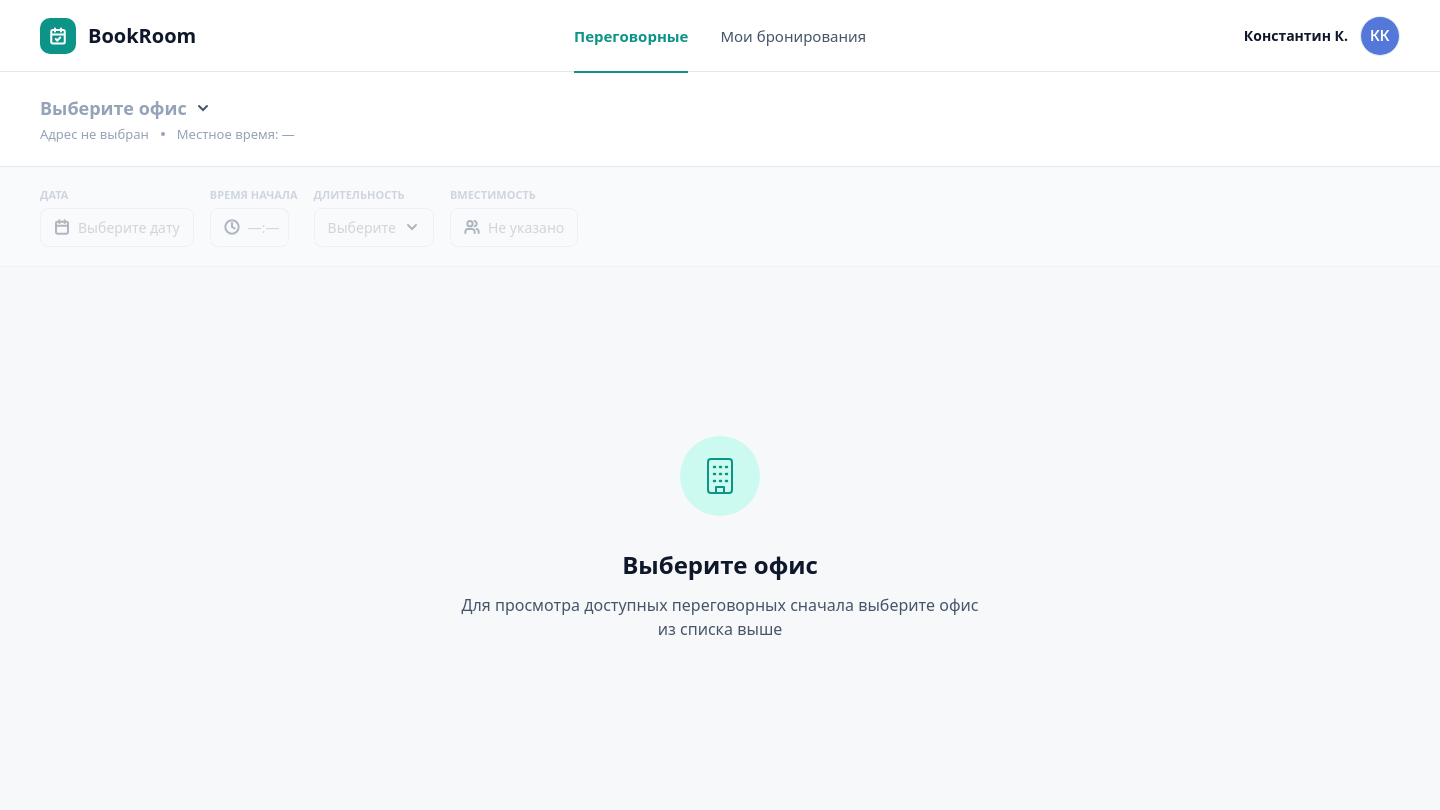
App layout › включает фильтры после выбора офиса
The width and height of the screenshot is (1440, 810).
Click the dropdown labelled "Выберите офис": (125, 108) [40,96,211,120]
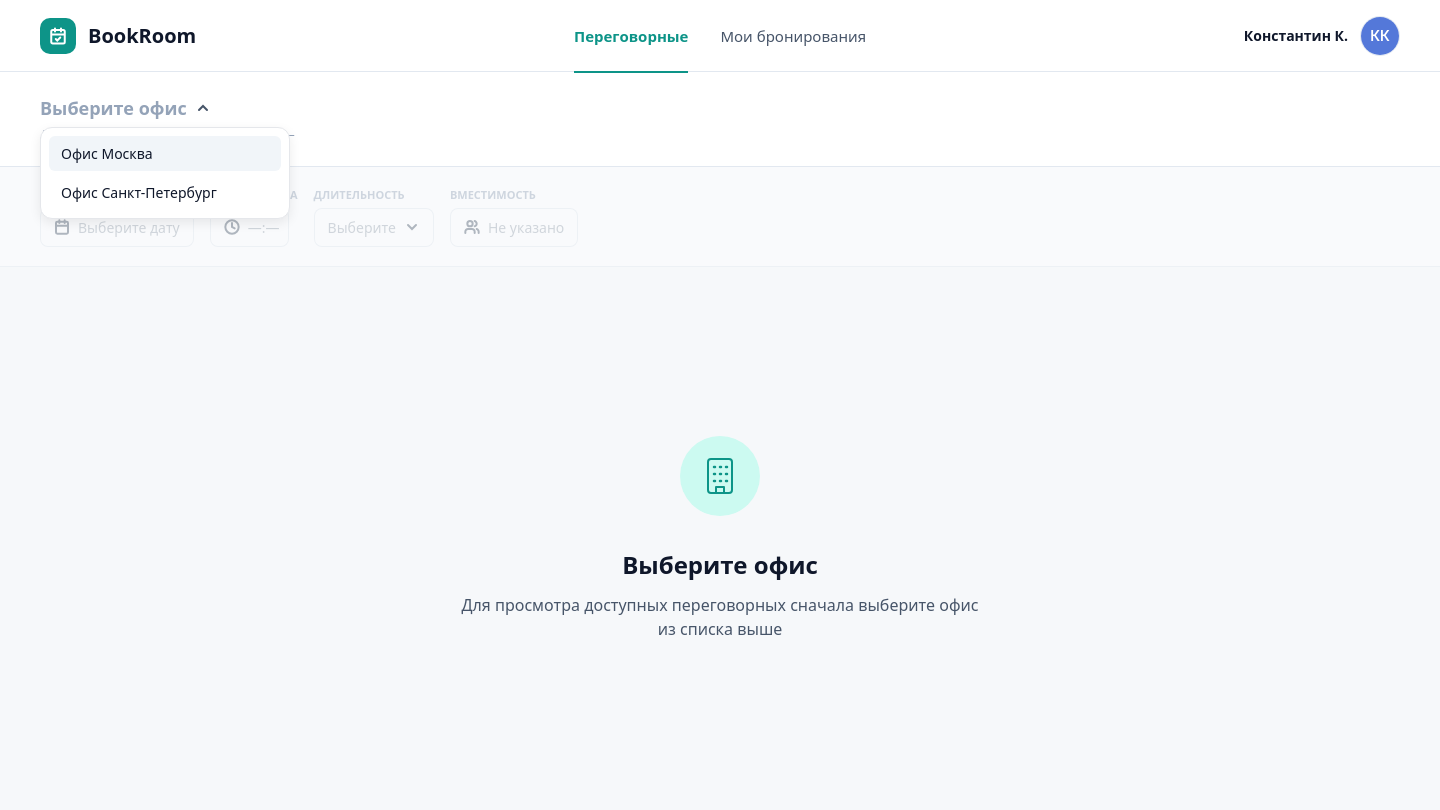
Click the option "Офис Москва": (165, 153) [49,136,281,170]
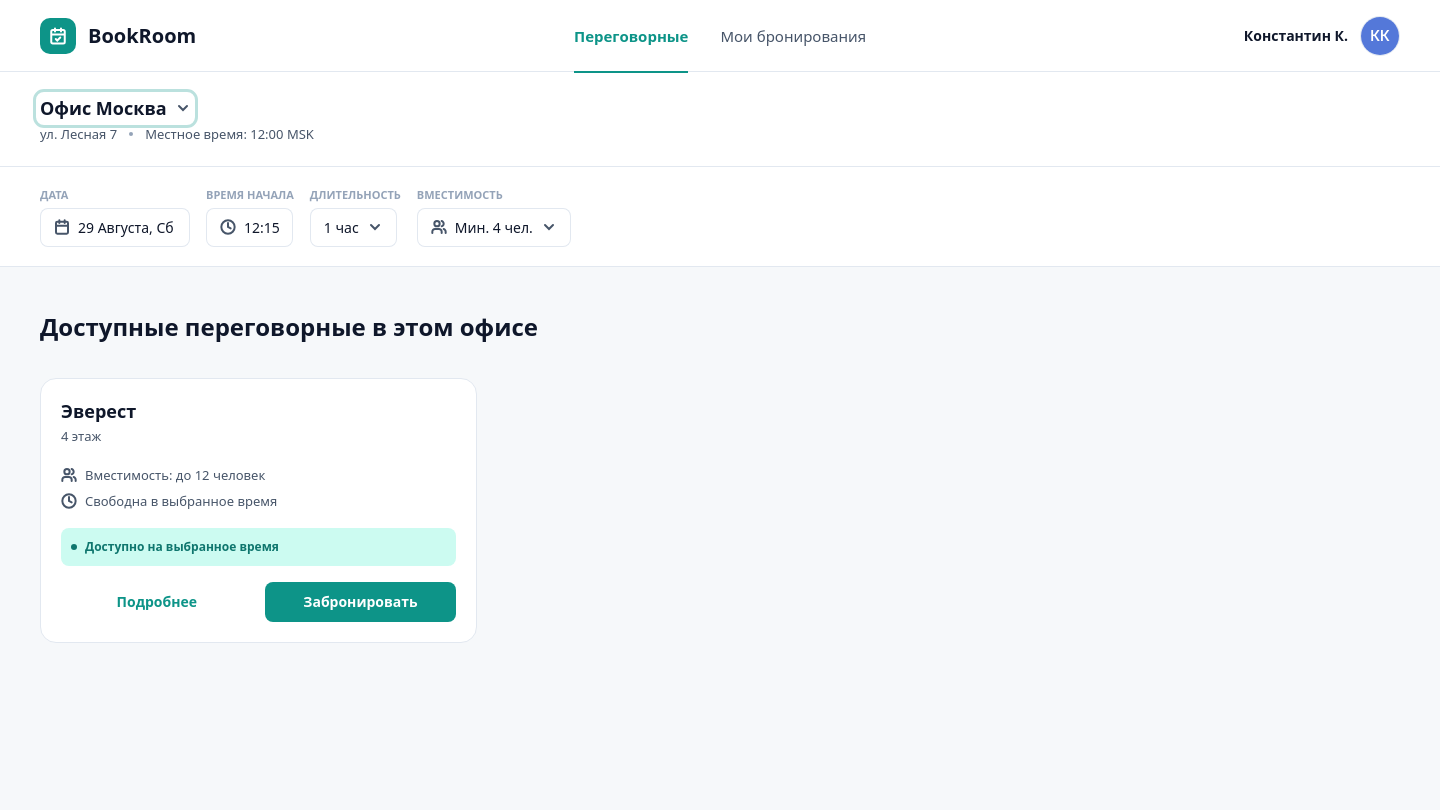
Expected: the button with aria-label "Дата бронирования" is enabled, [40,208,190,246]
Expected: the field named "Время начала" is enabled, [244,218,284,236]
Expected: the dropdown named "Длительность" reads "1 час", [310,208,397,246]
